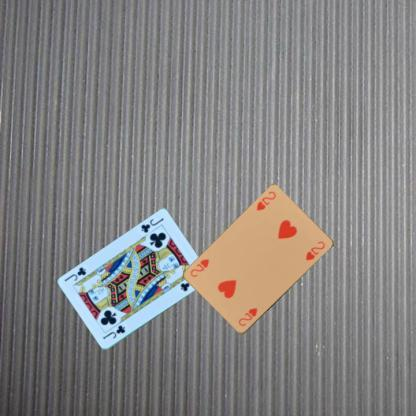2h: (254, 189, 277, 212), (236, 306, 259, 328)
Jc: (138, 216, 165, 234), (100, 322, 126, 340)
